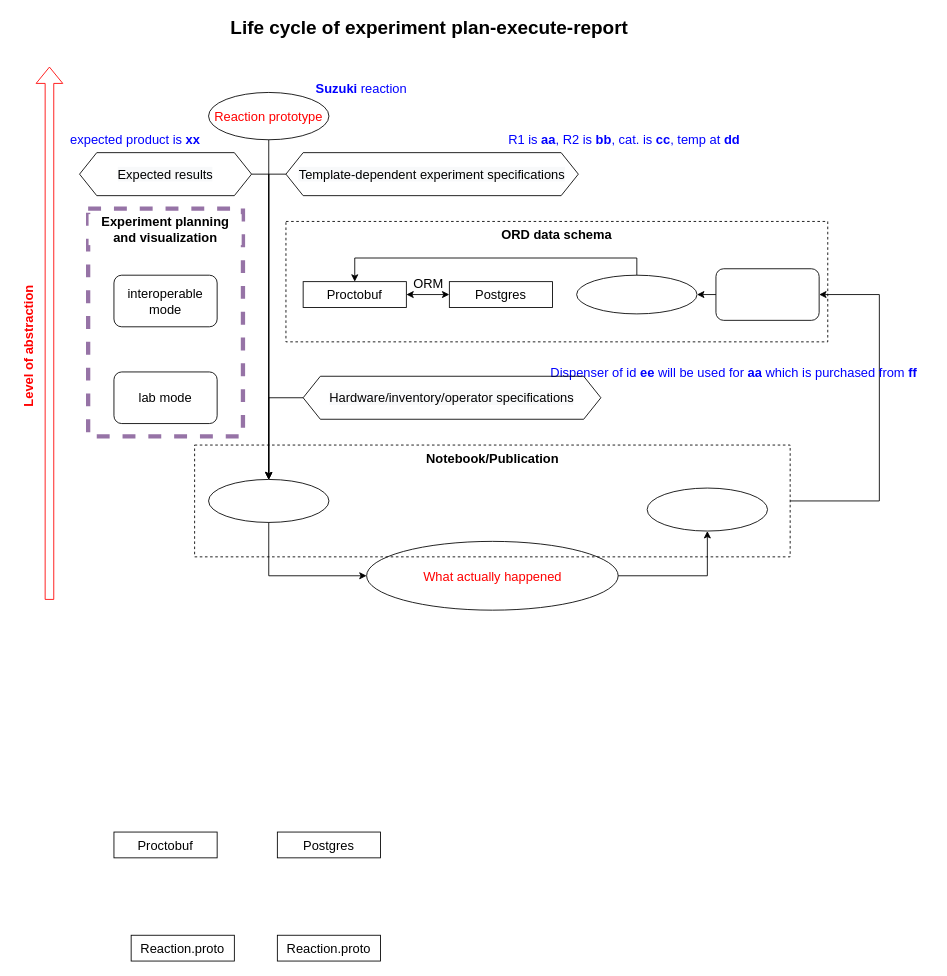
The diagram is 947 pixels wide and 976 high, and some of its shapes have lost their labels. Each missing label, with the centre of its shape:
"Analysis results" goes at point 707,509.
"Experiment plan" goes at point 268,500.
"ORD editor" goes at point 767,294.
"Reaction instance" goes at point 636,294.
